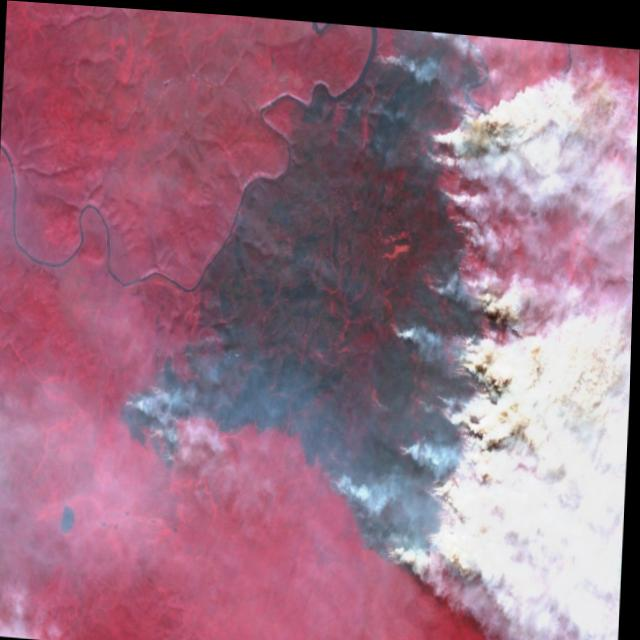fire: (310, 17, 527, 578)
